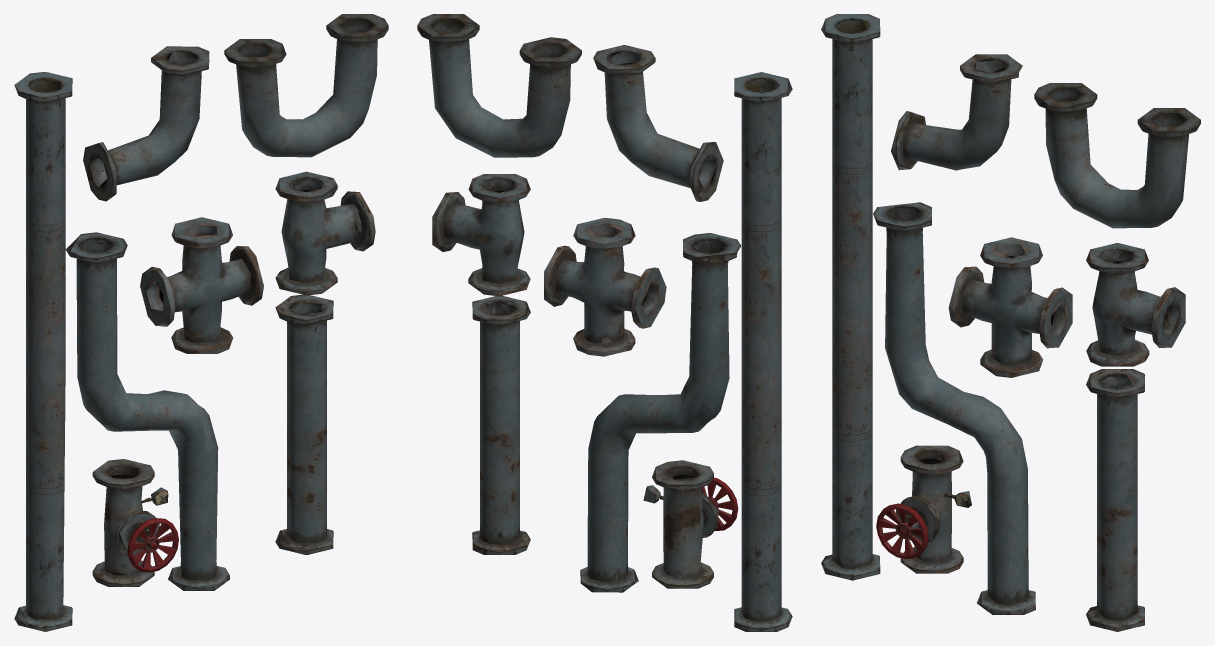
File: ph2_modular_industrial_pipes_01.glb
3 views of the same model, side by side, from view 1: azimuth 30°, elevation 25°; view 2: azimuth 150°, elevation 25°; view 3: azimuth 330°, elevation 25° (orthographic).
Size of the model in its own units: 1.4 by 1.95 by 0.3072.
Materials: 2 (2 with a texture image).
